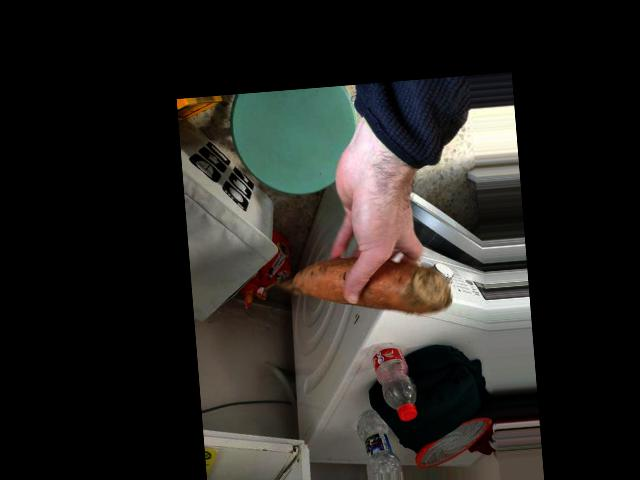sweet_potato: (284, 256, 452, 311)
